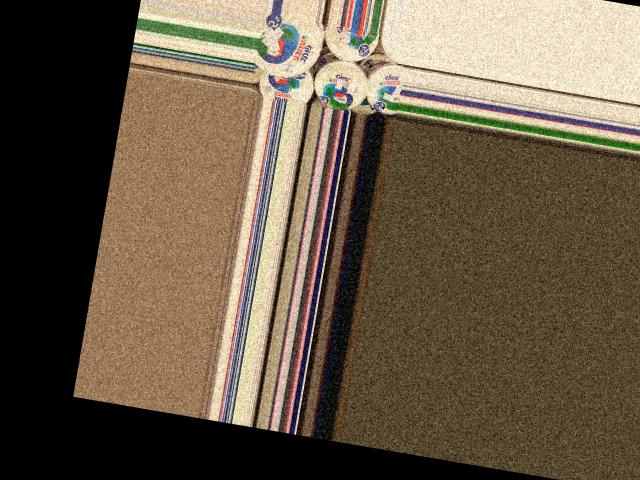cotage: (257, 62, 320, 106)
